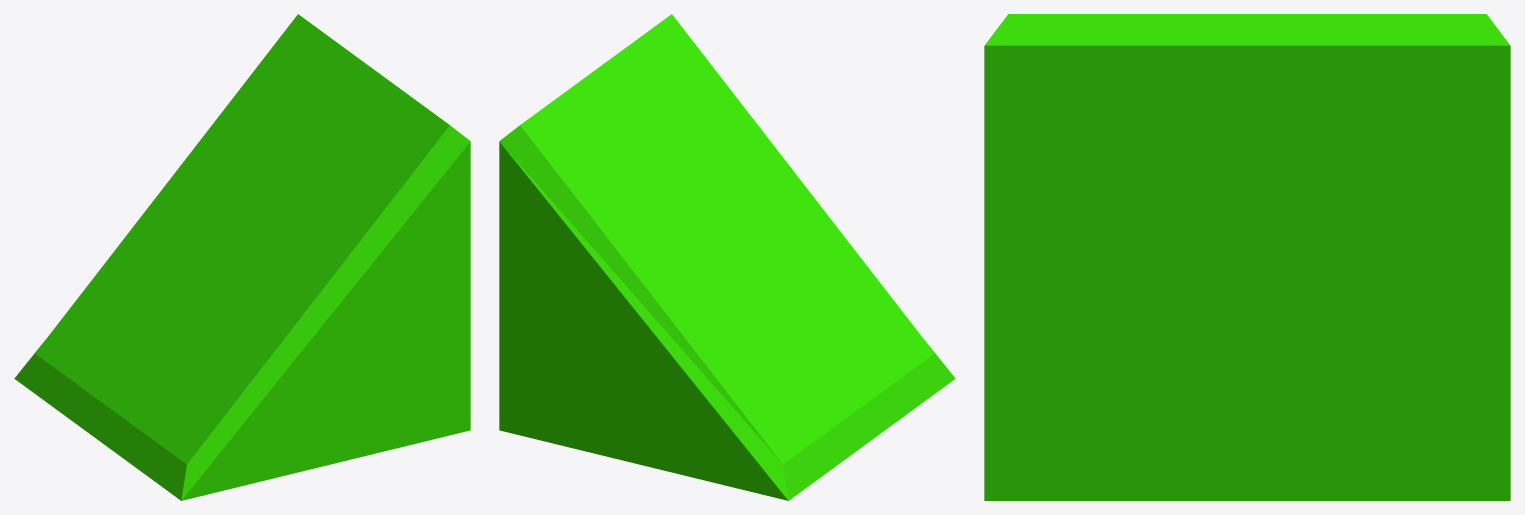
File: slope_1x1.fbx
3 renders of one model, left to right at view 1: azimuth 30°, elevation 25°; view 2: azimuth 150°, elevation 25°; view 3: azimuth 270°, elevation 25°, orthographic. The views are drawn at different scales.
Parts seen in each view (by area): view 1: slope_1x1; view 2: slope_1x1; view 3: slope_1x1.
Boxes of the visible parts, x1,y1,x2,y2 form: slope_1x1: [14, 14, 470, 500]; slope_1x1: [499, 14, 955, 500]; slope_1x1: [984, 14, 1510, 500].
Size of the model in its own units: 110 by 110 by 110.
